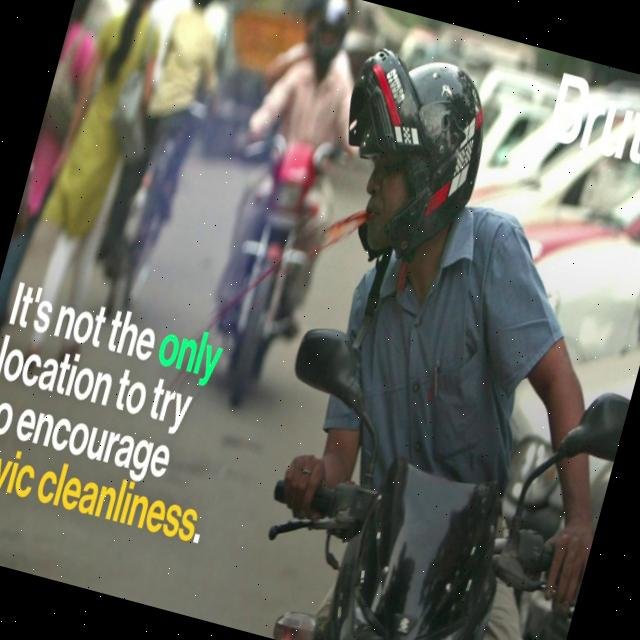spit: (208, 156, 413, 338)
